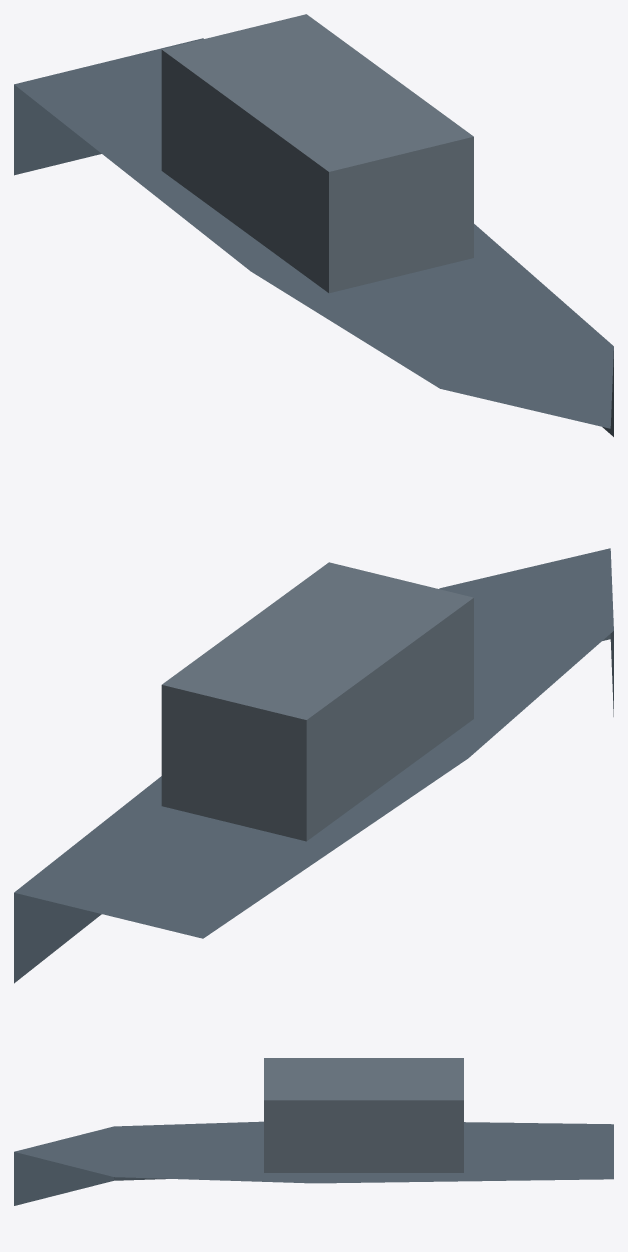
Rendered from patrol_1.gltf.
The picture shows the model from 3 angles, top to bottom: view 1: azimuth 30°, elevation 25°; view 2: azimuth 150°, elevation 25°; view 3: azimuth 270°, elevation 25°; orthographic projection. The views are drawn at different scales.
Visible parts, largest first — view 1: patrol_1_hull; view 2: patrol_1_hull; view 3: patrol_1_hull.
Boxes of the visible parts, box(x1,y1,x2,y2) form: patrol_1_hull: box(14, 14, 613, 436); patrol_1_hull: box(14, 548, 613, 983); patrol_1_hull: box(14, 1058, 613, 1205).
Size of the model in its own units: 3 by 2.8 by 12.
